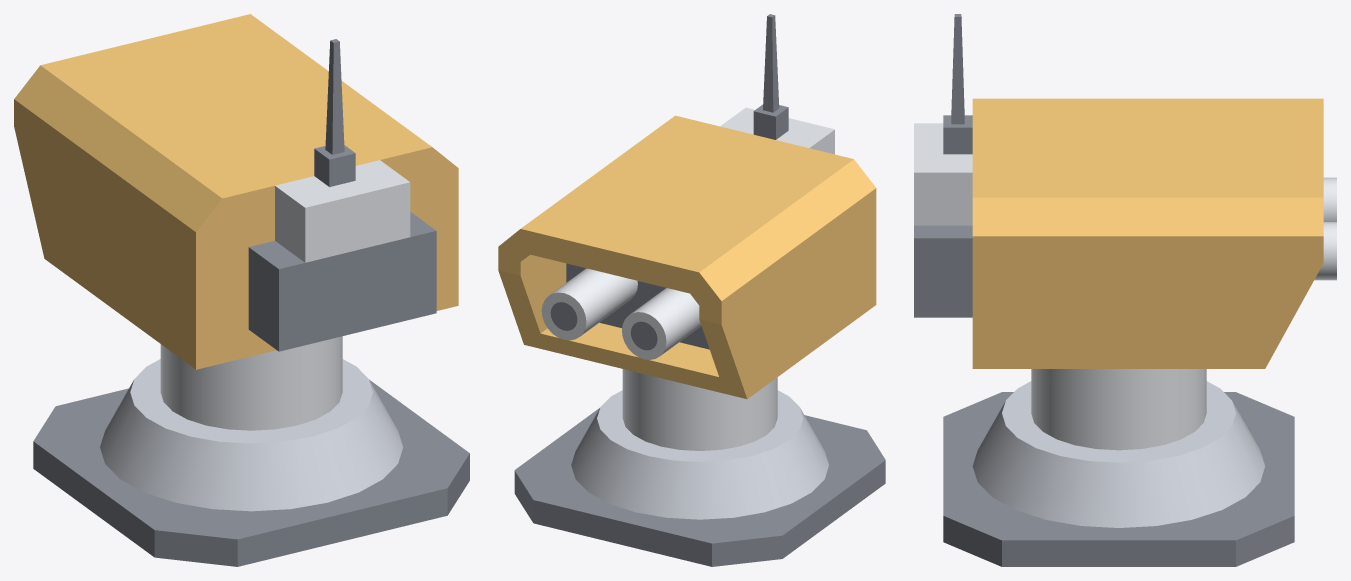
The model's file is turret_single.glb.
3 views of the same model, side by side, from view 1: azimuth 30°, elevation 25°; view 2: azimuth 150°, elevation 25°; view 3: azimuth 270°, elevation 25° (orthographic). The views are drawn at different scales.
Visible parts, largest first — view 1: turret, turret_single; view 2: turret, turret_single, Group (×2); view 3: turret, turret_single, Group (×2).
Boxes of the visible parts, bbox=[...] form: turret: bbox=[14, 14, 458, 369]; turret_single: bbox=[33, 336, 469, 566]; turret: bbox=[498, 14, 876, 399]; turret_single: bbox=[514, 369, 885, 566]; Group (×2): bbox=[541, 268, 701, 359]; turret: bbox=[914, 14, 1323, 368]; turret_single: bbox=[943, 369, 1294, 566]; Group (×2): bbox=[1314, 177, 1336, 280].
Bounding box in the file's own units: 0.6 × 0.9 × 0.7224.
Materials: 1 (1 with a texture image).
